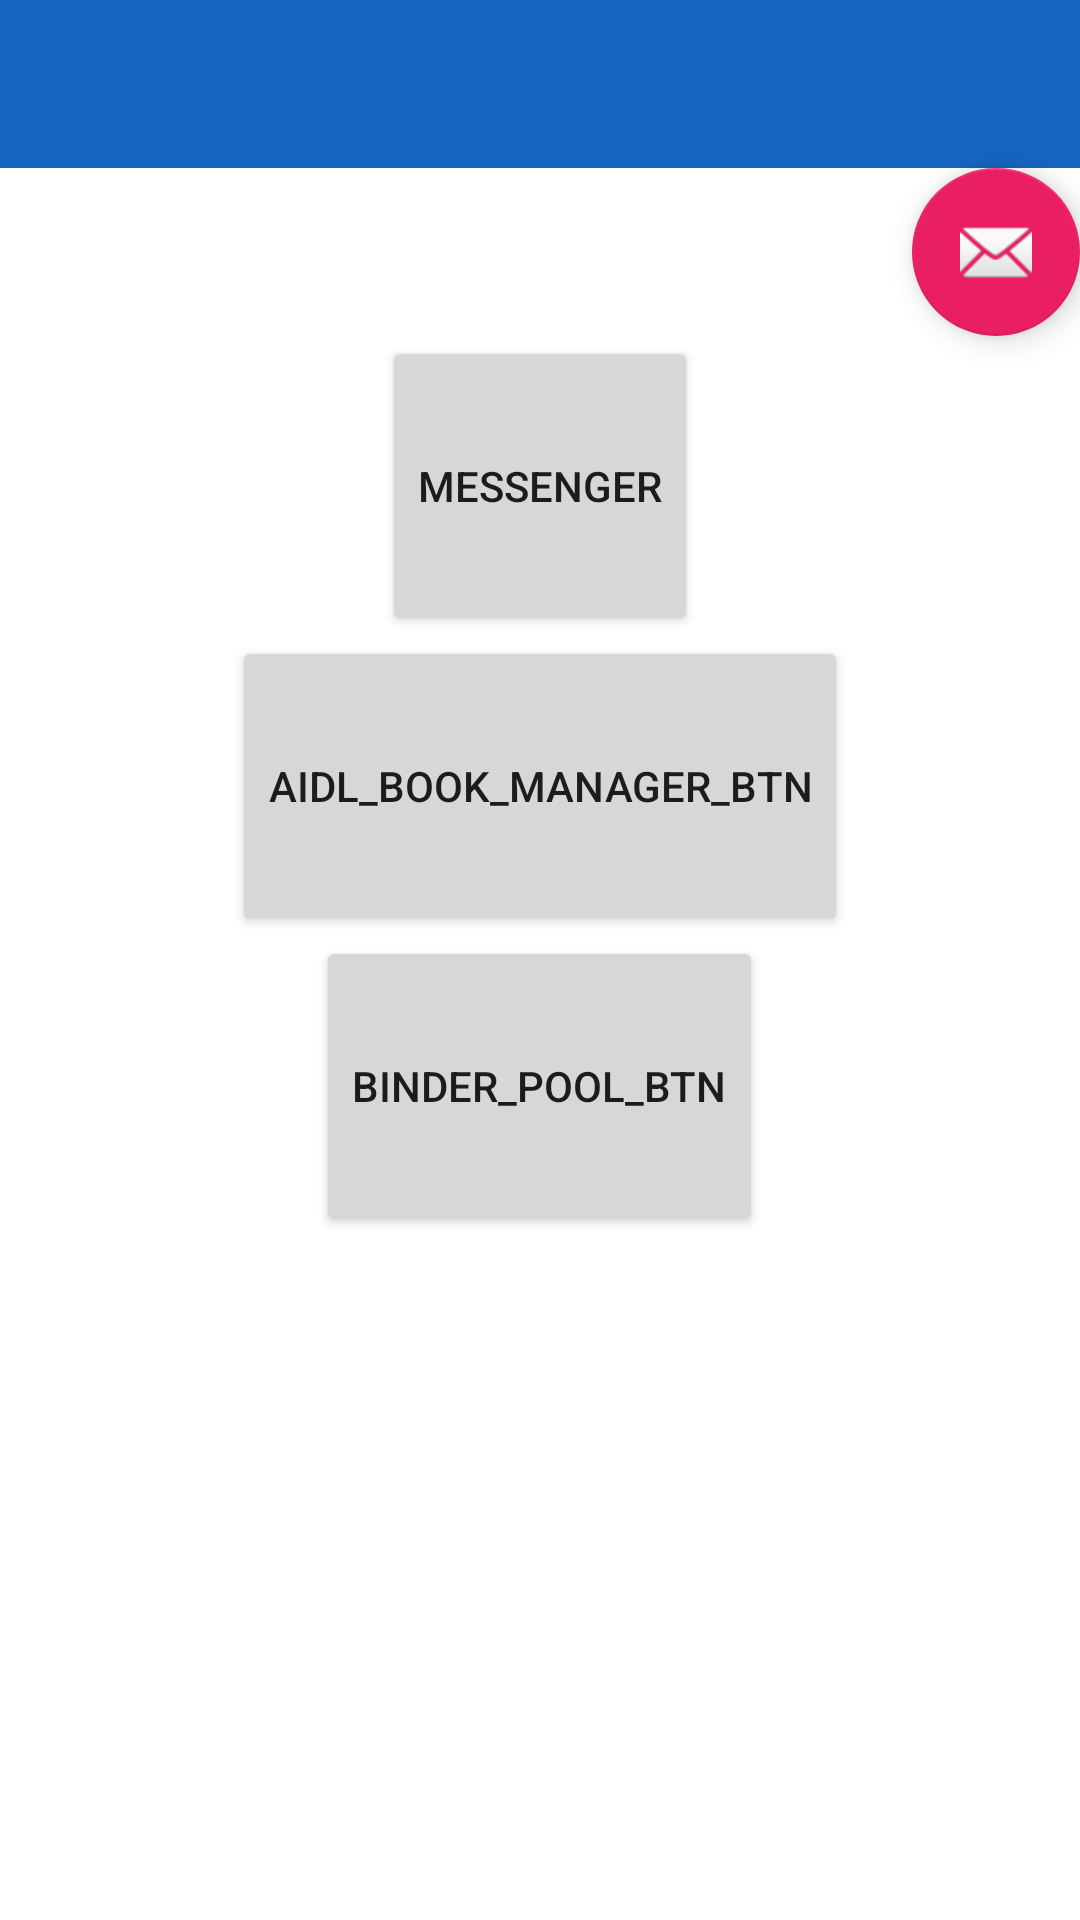

Named icons in this screenshot (1080px×1920px) and their centers, point (x, y):
email: point (996, 252)
